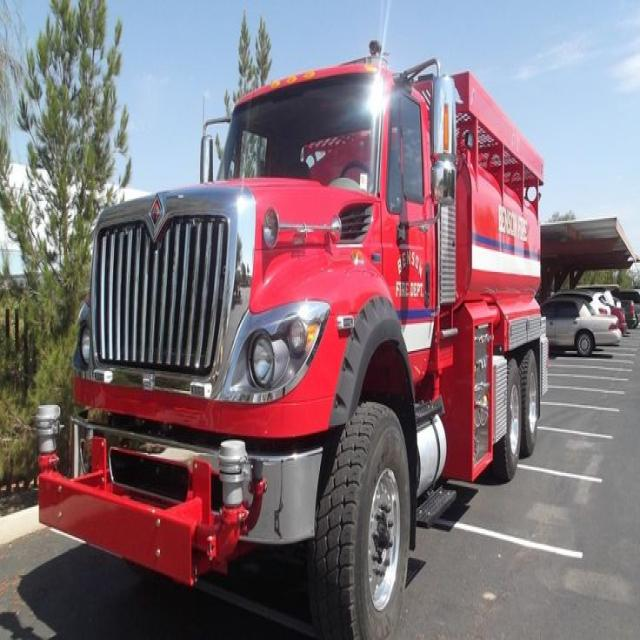pompier: (43, 42, 541, 640)
